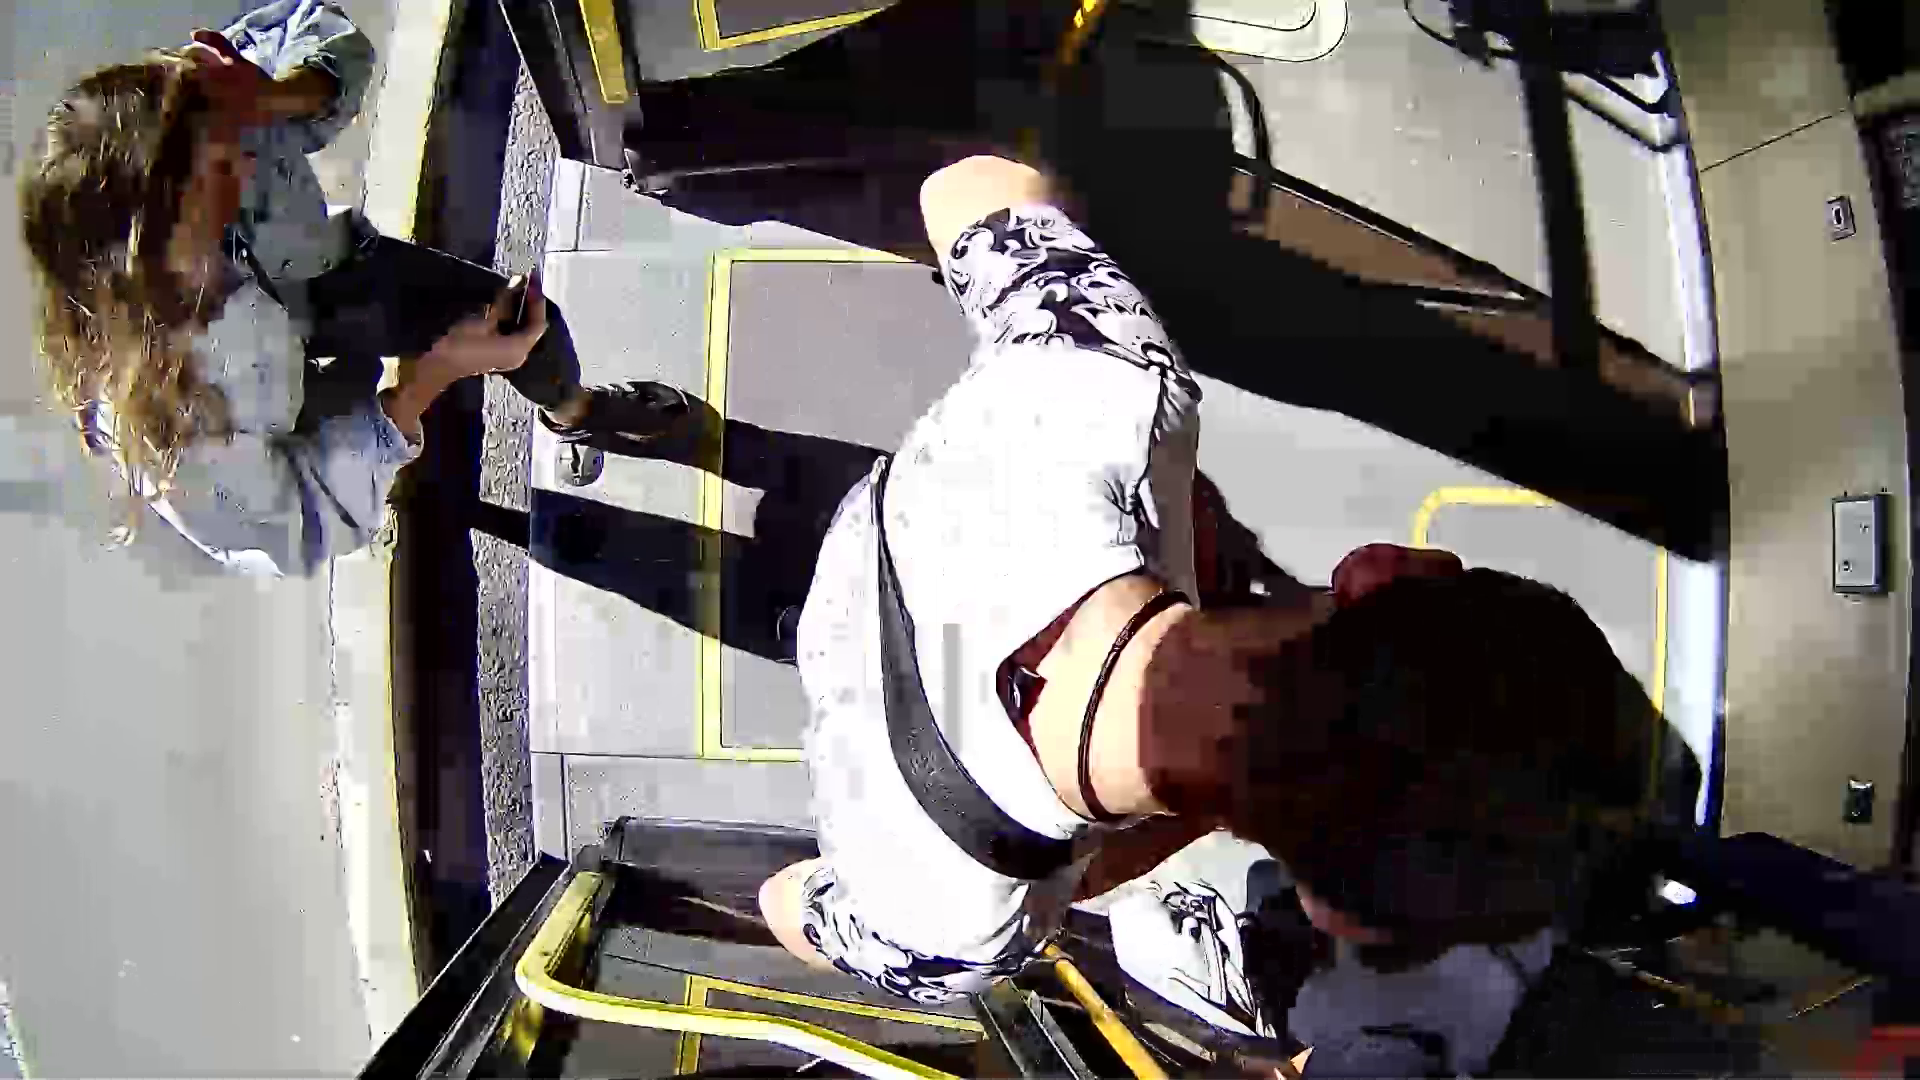person: (771, 170, 1704, 1017), (30, 15, 683, 491)
